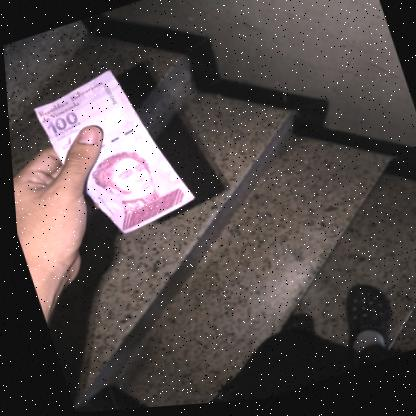vef_front: (26, 55, 198, 253)
